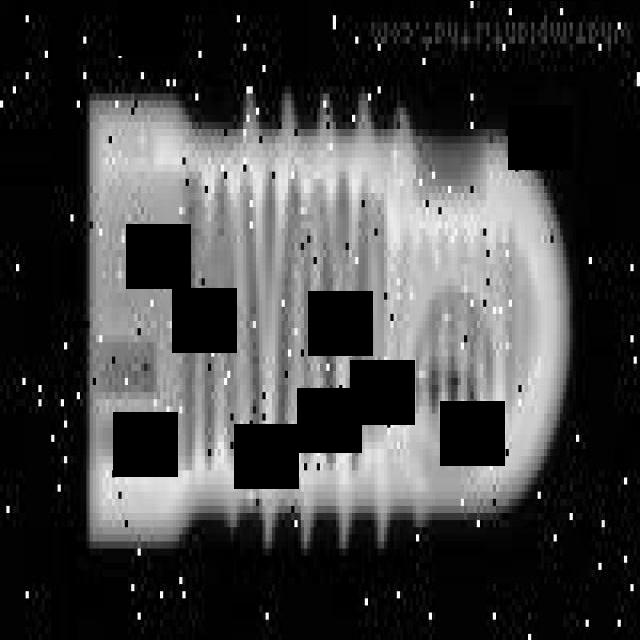Root canal obturation: (90, 85, 576, 548)
